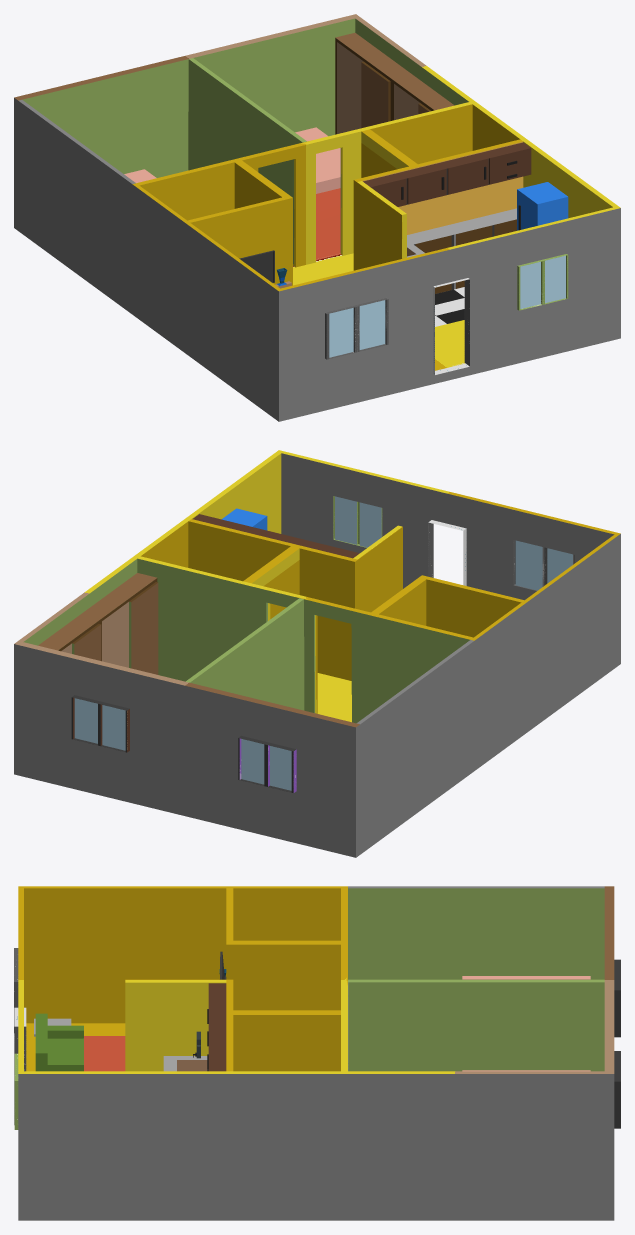
Rendered from housev2.gltf.
The picture shows the model from 3 angles, top to bottom: view 1: azimuth 30°, elevation 25°; view 2: azimuth 150°, elevation 25°; view 3: azimuth 270°, elevation 25°; orthographic projection. The views are drawn at different scales.
Parts seen in each view (by area): view 1: Cube, Fridge; view 2: Cube, Fridge; view 3: Cube, Sofa, Carpet.
Part boxes in pixels (x1,y1,x2,y2): Cube: (14,14,620,421); Fridge: (517,182,568,230); Cube: (14,450,620,857); Fridge: (221,508,267,530); Cube: (14,886,620,1220); Sofa: (35,1013,83,1071); Carpet: (84,1036,125,1071).
Size of the model in its own units: 11.93 by 4.35 by 16.3.
Materials: 1 (1 with a texture image).
